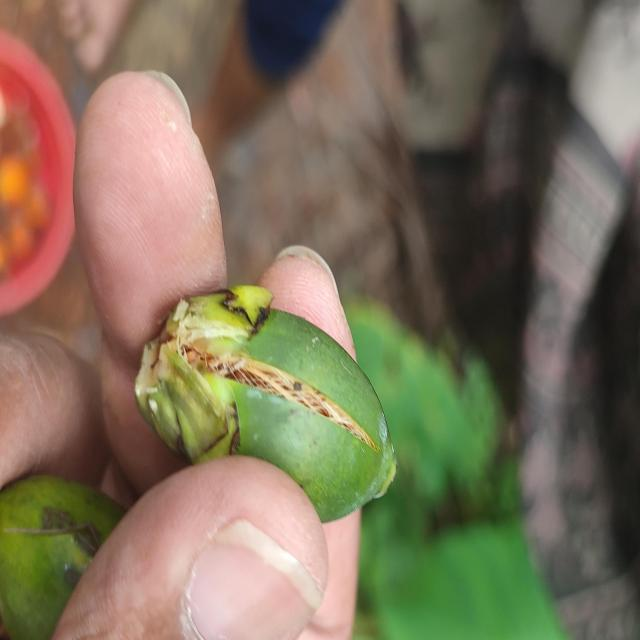damaged: (135, 287, 397, 525)
